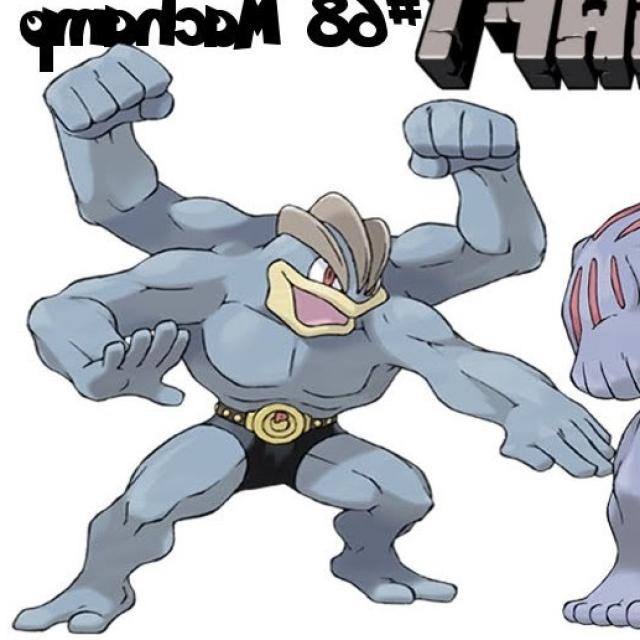Machamp: (31, 194, 523, 612)
